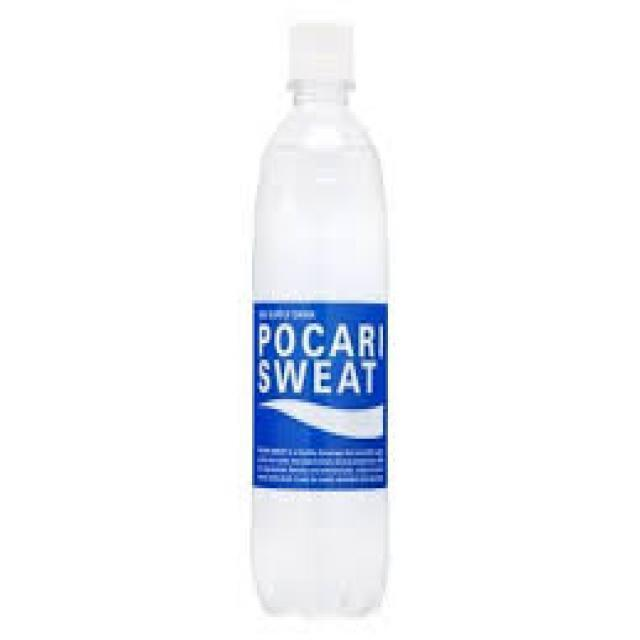Plastic: (254, 21, 392, 614)
